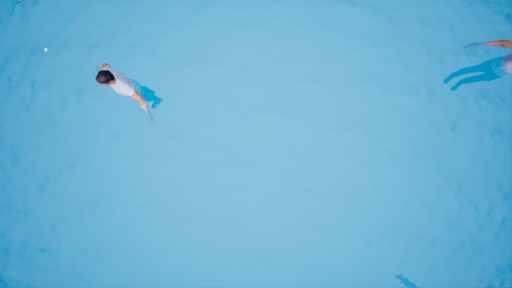person: (91, 61, 163, 120)
